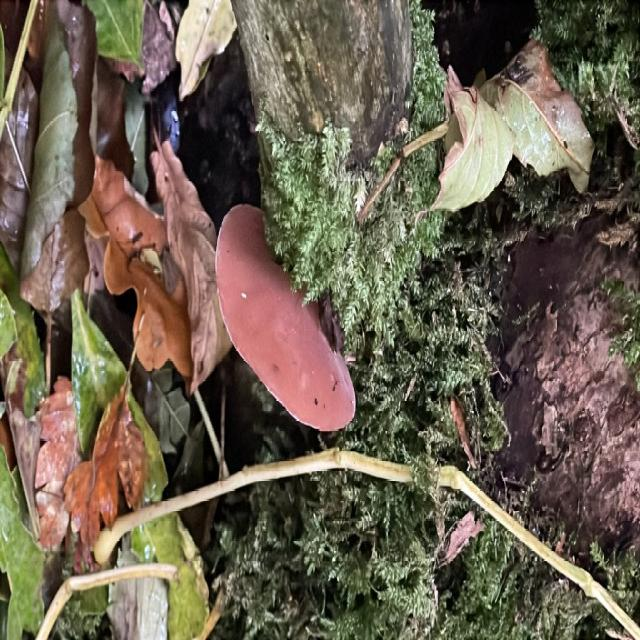Matang: (209, 198, 360, 434)
